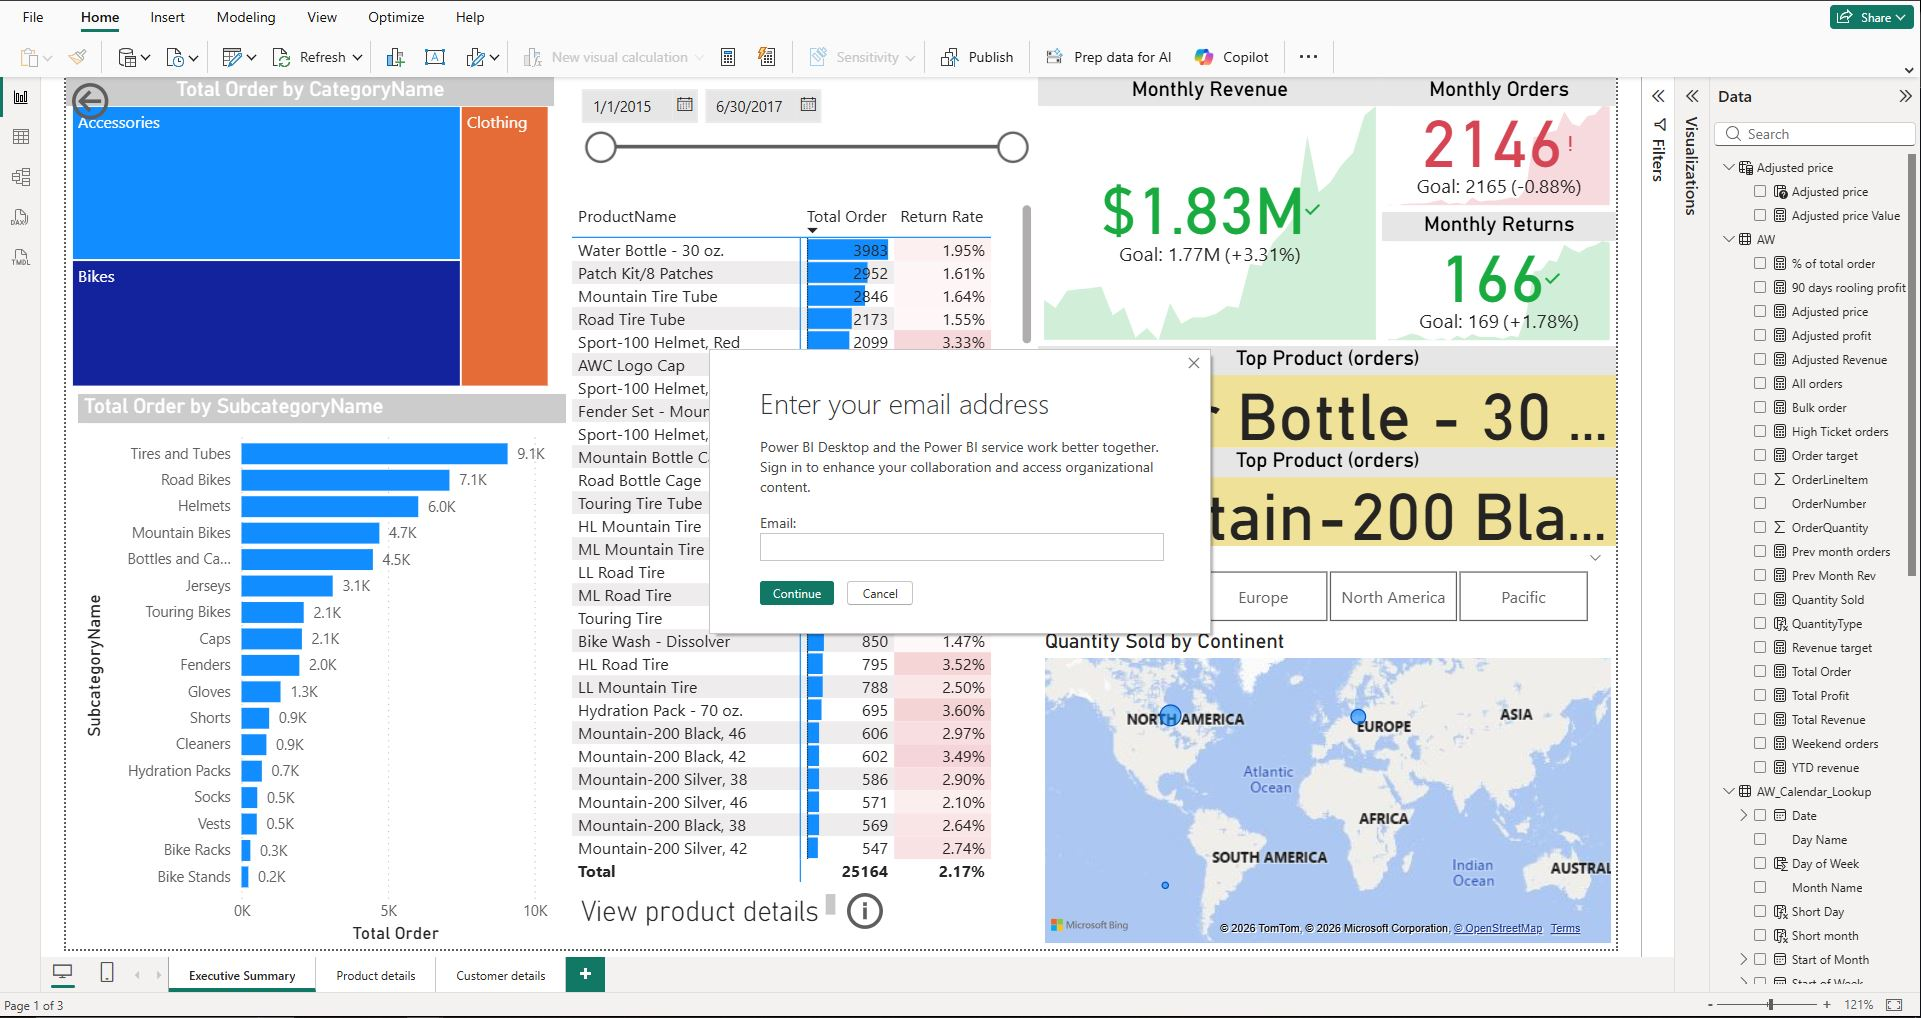

The page's visual inventory and layout, read from the dashboard file:
{"tool":"powerbi","page":{"name":"Executive Summary","canvas":[1280,720],"ordinal":0},"visuals":[{"type":"barChart","title":"Total Order by SubcategoryName","fields":{"Category":["AW_Product_Subcategories_Lookup.SubcategoryName"],"Y":["AW.Total Order"]},"box":[9.6,262.1,404.8,458.3],"z":0},{"type":"treemap","title":"Total Order by CategoryName","fields":{"Group":["AW_Product_Categories_Lookup.CategoryName"],"Values":["AW.Total Order"]},"box":[0,0,403.5,260.6],"z":1000},{"type":"slicer","fields":{"Values":["AW_Calendar_Lookup.Date"]},"box":[413,0,389.7,100.2],"z":2000},{"type":"pivotTable","fields":{"Rows":["AW_Product_Lookup.ProductName"],"Values":["AW.Total Order","AW_Returns_Data.Return Rate"]},"box":[413.1,99.7,390.2,570.4],"z":3000},{"type":"kpi","title":"Monthly Revenue ","fields":{"Indicator":["AW.Total Revenue"],"TrendLine":["AW_Calendar_Lookup.Start of Month"],"Goal":["AW.Prev Month Rev"]},"box":[802.7,0,284,222.3],"z":4000},{"type":"actionButton","box":[0,0,100,40],"z":5000},{"type":"kpi","title":"Monthly Returns ","fields":{"TrendLine":["AW_Calendar_Lookup.Start of Month"],"Indicator":["AW_Returns_Data.Total return"],"Goal":["AW_Returns_Data.Prev month returns"]},"box":[1086.8,111.1,193.5,111.1],"z":6000},{"type":"kpi","title":"Monthly Orders","fields":{"TrendLine":["AW_Calendar_Lookup.Start of Month"],"Indicator":["AW.Total Order"],"Goal":["AW.Prev month orders"]},"box":[1086.8,0,193.5,111.1],"z":7000},{"type":"card","title":"Top Product (orders)","fields":{"Values":["Min(AW_Product_Lookup.ProductName)"]},"box":[802.7,222.3,477.5,83.7],"z":8000},{"type":"card","title":"Top Product (orders)","fields":{"Values":["Min(AW_Product_Lookup.ProductName)"]},"box":[802.7,306,477.5,81],"z":9000},{"type":"slicer","fields":{"Values":["AW_Territories_Lookup.Continent"]},"box":[802.7,387,477.5,68.6],"z":10000},{"type":"map","fields":{"Category":["AW_Territories_Lookup.Continent"],"Size":["AW.Quantity Sold"]},"box":[803,456,477,264],"z":11000},{"type":"textbox","box":[420.3,670,219.7,36],"z":12000},{"type":"actionButton","box":[640,668.8,48,39.6],"z":13000}]}

Visuals, with their boxes on the page's 1280x720 design canvas (x1, y1, x2, y2). These are canvas units, not pixel positions in the 1921x1018 screenshot, which may show the page scaled, cropped or inside an application window:
"Total Order by SubcategoryName" barChart: pyautogui.locateOnScreen(10, 262, 414, 720)
"Total Order by CategoryName" treemap: pyautogui.locateOnScreen(0, 0, 404, 261)
slicer - AW_Calendar_Lookup.Date: pyautogui.locateOnScreen(413, 0, 803, 100)
pivotTable - AW_Product_Lookup.ProductName x AW.Total Order: pyautogui.locateOnScreen(413, 100, 803, 670)
"Monthly Revenue " kpi: pyautogui.locateOnScreen(803, 0, 1087, 222)
actionButton: pyautogui.locateOnScreen(0, 0, 100, 40)
"Monthly Returns " kpi: pyautogui.locateOnScreen(1087, 111, 1280, 222)
"Monthly Orders" kpi: pyautogui.locateOnScreen(1087, 0, 1280, 111)
"Top Product (orders)" card: pyautogui.locateOnScreen(803, 222, 1280, 306)
"Top Product (orders)" card: pyautogui.locateOnScreen(803, 306, 1280, 387)
slicer - AW_Territories_Lookup.Continent: pyautogui.locateOnScreen(803, 387, 1280, 456)
map - AW_Territories_Lookup.Continent x AW.Quantity Sold: pyautogui.locateOnScreen(803, 456, 1280, 720)
textbox: pyautogui.locateOnScreen(420, 670, 640, 706)
actionButton: pyautogui.locateOnScreen(640, 669, 688, 708)
